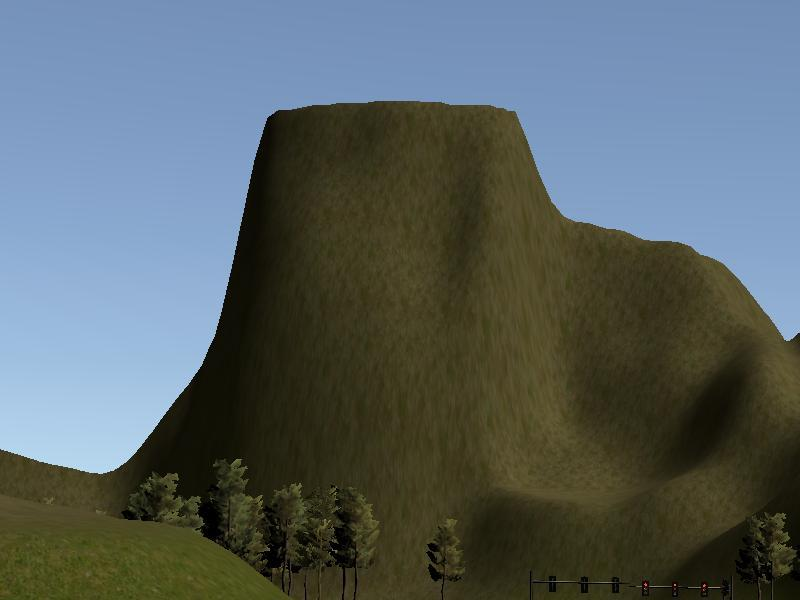Red: (698, 580, 708, 598), (641, 579, 650, 597), (671, 580, 678, 598)
